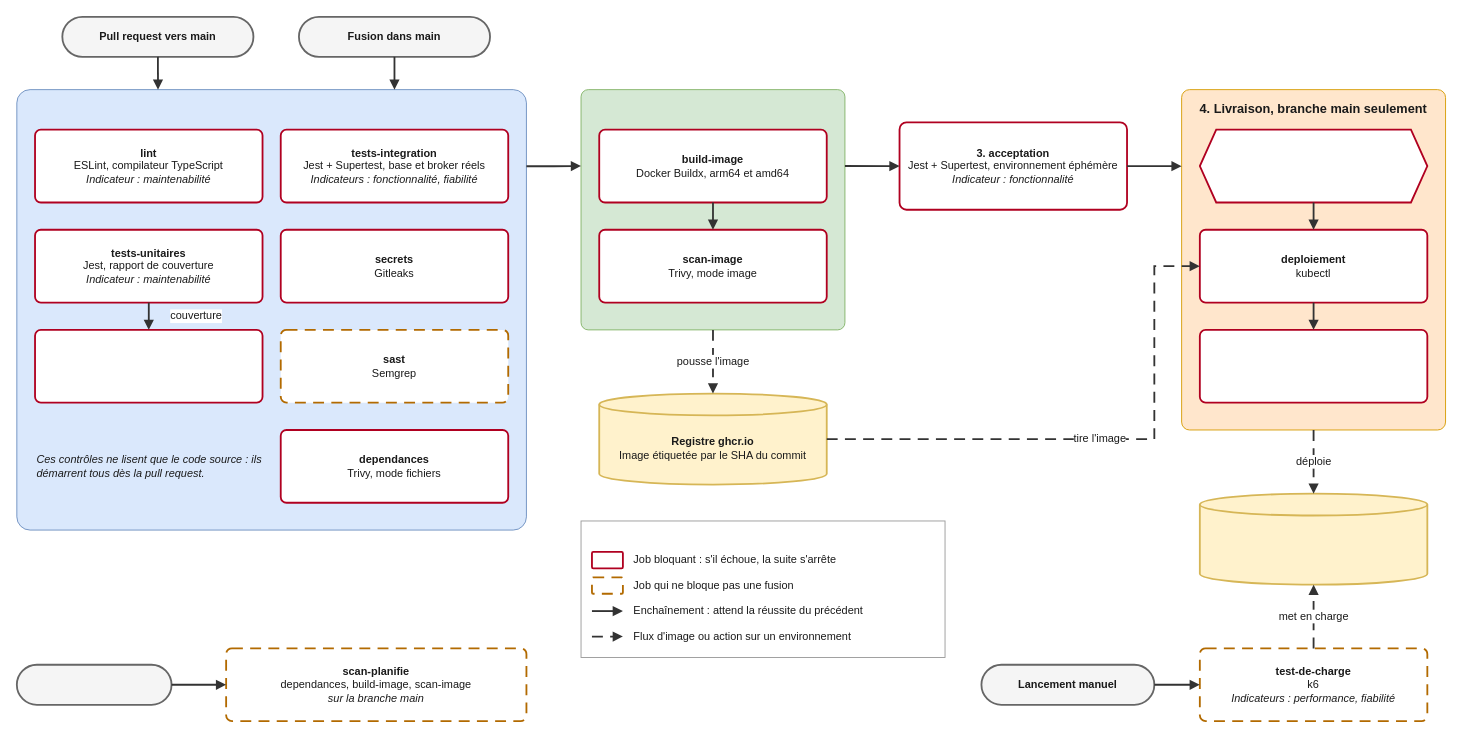
Image size: 1461x737. Some labels were removed from this diagram. The box of each missing label's shape, as (x1, y1, x2, y2) in pixels:
1. Contrôles du code source, lancés en parallèle: (16, 89, 526, 530)
2. Image de conteneur: (580, 89, 845, 330)
Chaque nuit: (15, 663, 172, 705)
Environnement de démonstration Kubernetes, hébergé en Europe: (1198, 492, 1428, 585)
Légende: (580, 520, 945, 657)
qualite SonarQube Cloud, quality gate Indicateurs : maintenabilité, fiabilité: (34, 329, 263, 403)
Validation humaine: (1198, 128, 1428, 203)
verification Tests d'acceptation rejoués Indicateur : fonctionnalité: (1198, 329, 1428, 403)
